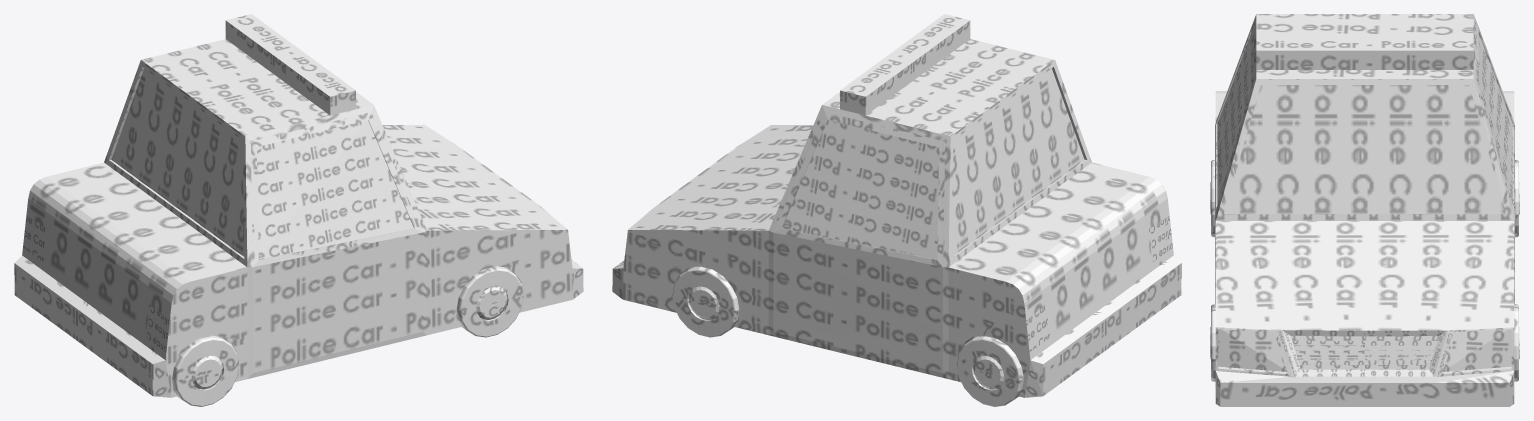
Rendered from Police car.FBX.
3 views of the same model, side by side, from view 1: azimuth 30°, elevation 25°; view 2: azimuth 150°, elevation 25°; view 3: azimuth 270°, elevation 25° (orthographic). The views are drawn at different scales.
Parts seen in each view (by area): view 1: Police_Car; view 2: Police_Car; view 3: Police_Car.
Part boxes in pixels (<box>): Police_Car: <box>14,14,583,406</box>; Police_Car: <box>612,14,1181,406</box>; Police_Car: <box>1210,14,1519,406</box>.
Bounding box in the file's own units: 380 × 227 × 218.
9 materials, 9 textured.
